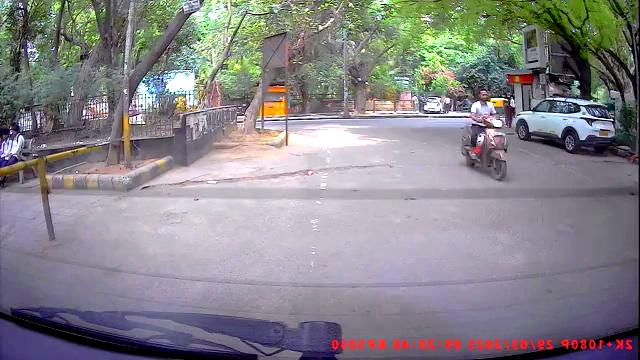motorcycle_with_helmet: (461, 87, 510, 182)
